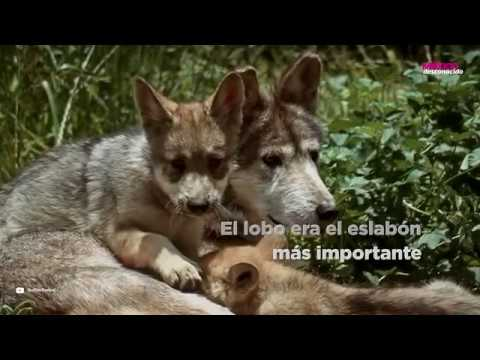Lobo: (94, 75, 231, 287), (217, 58, 349, 242)
